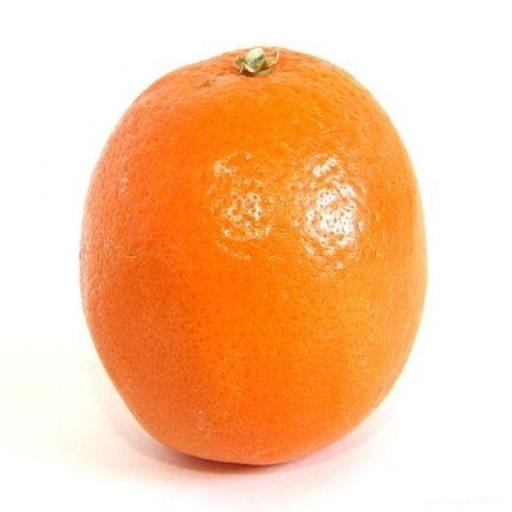fruit: (80, 49, 424, 463)
